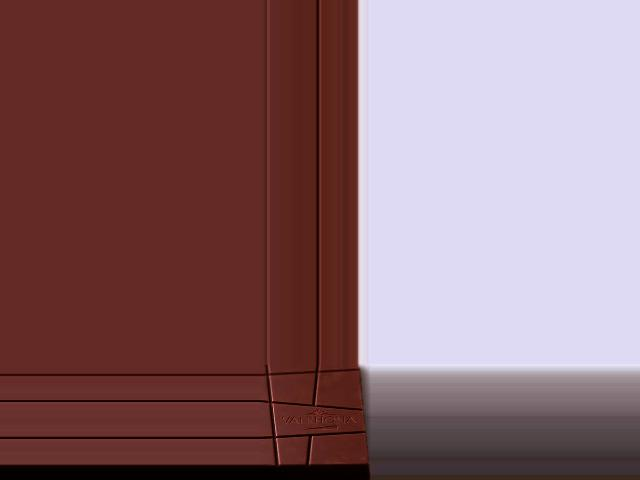chocolate: (259, 364, 371, 470)
